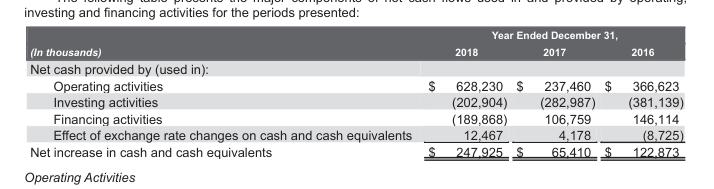table: (29, 29, 682, 158)
table column: (29, 29, 419, 158), (419, 29, 510, 158), (510, 29, 599, 158), (599, 29, 682, 158)
table column header: (29, 29, 682, 59)
table projected row header: (29, 59, 682, 77)
table row: (29, 59, 682, 77), (29, 109, 682, 126), (29, 43, 682, 59), (29, 77, 682, 93), (29, 93, 682, 109), (29, 126, 682, 142), (29, 142, 682, 158), (29, 29, 682, 43)
table spanning cell: (29, 29, 419, 59), (419, 29, 682, 43)
